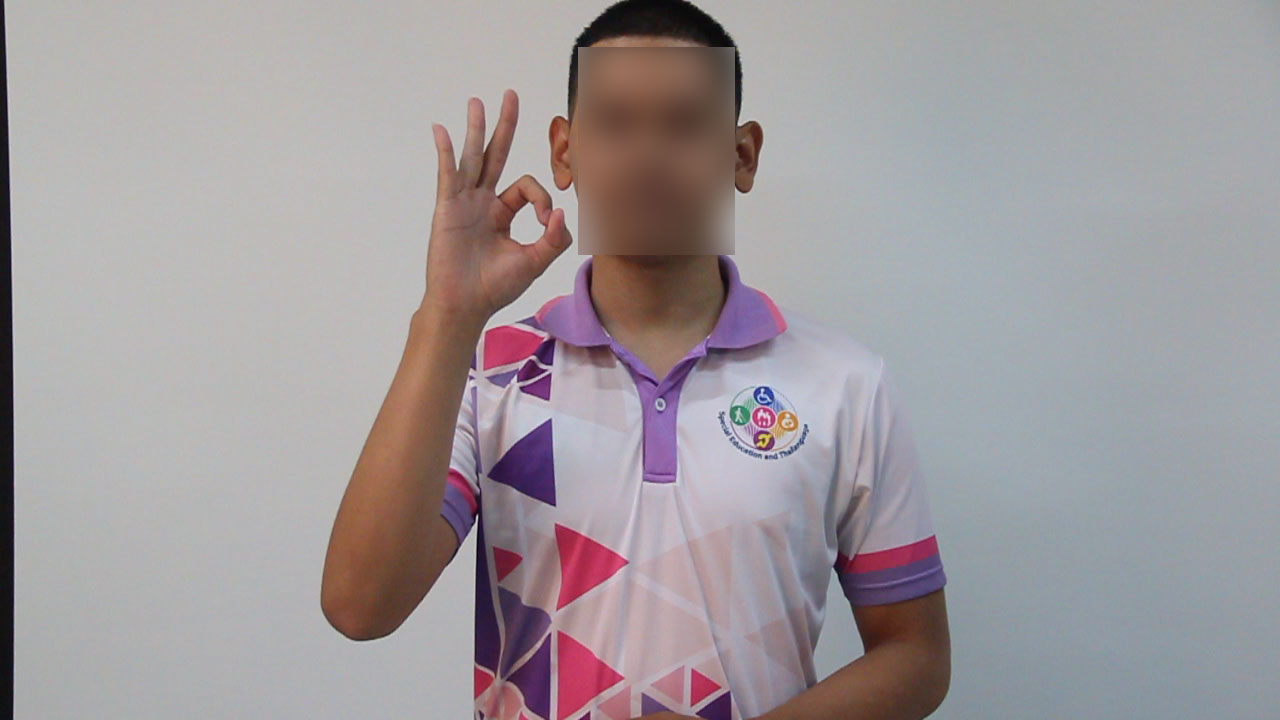for: (397, 78, 581, 339)
